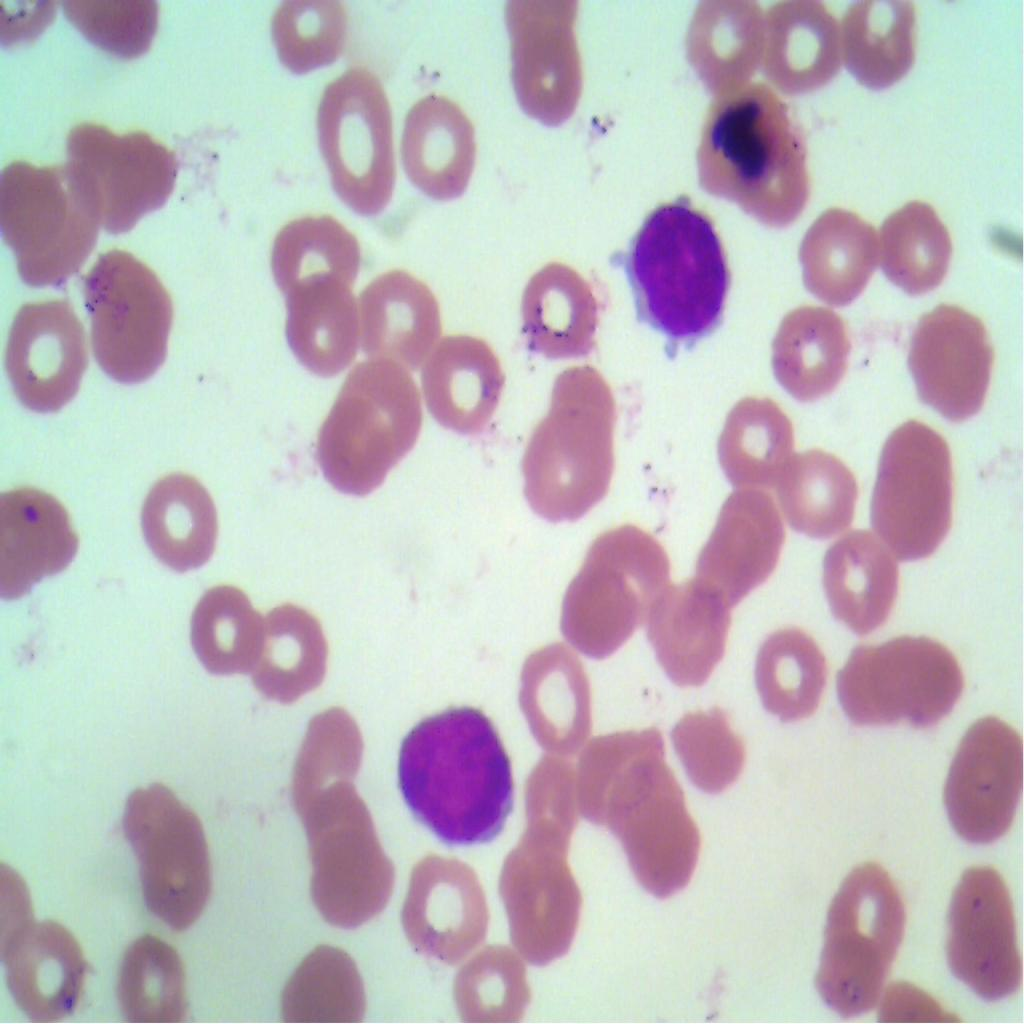Eritrosit: (306, 58, 402, 224), (898, 292, 1004, 428), (66, 115, 184, 237), (872, 415, 958, 574), (939, 712, 1023, 865), (413, 315, 513, 438), (738, 607, 828, 738), (495, 837, 581, 971), (18, 164, 106, 292), (939, 862, 1023, 995), (689, 492, 788, 604), (643, 571, 736, 690), (0, 479, 84, 610), (280, 695, 362, 829), (575, 710, 666, 829), (398, 92, 488, 210), (578, 506, 672, 618), (400, 850, 490, 964), (135, 465, 224, 580), (514, 638, 600, 755), (816, 524, 902, 641), (113, 925, 213, 1023), (309, 378, 391, 495), (9, 918, 99, 1023), (558, 572, 652, 672), (510, 258, 601, 361), (8, 295, 86, 415), (353, 266, 436, 378), (766, 290, 852, 398), (886, 618, 959, 744), (262, 198, 355, 296), (248, 605, 334, 710), (715, 382, 793, 495), (821, 858, 904, 964), (504, 21, 579, 138), (526, 423, 612, 525), (829, 628, 903, 746), (306, 829, 395, 927), (874, 191, 962, 290), (833, 0, 921, 98), (184, 571, 270, 671), (541, 361, 623, 465), (799, 204, 876, 314), (743, 132, 823, 237), (284, 268, 358, 378), (448, 934, 539, 1023), (252, 0, 345, 87), (759, 0, 841, 98), (631, 802, 704, 909), (518, 749, 583, 865), (670, 700, 750, 794), (778, 444, 858, 535), (343, 358, 418, 452), (818, 924, 890, 1021), (686, 0, 768, 85), (124, 778, 201, 868), (138, 837, 215, 927), (0, 161, 69, 261), (608, 748, 675, 847)
Limfoblast: (379, 695, 519, 861)
Limfosit: (618, 204, 738, 348)
Platelet: (22, 500, 48, 531)
